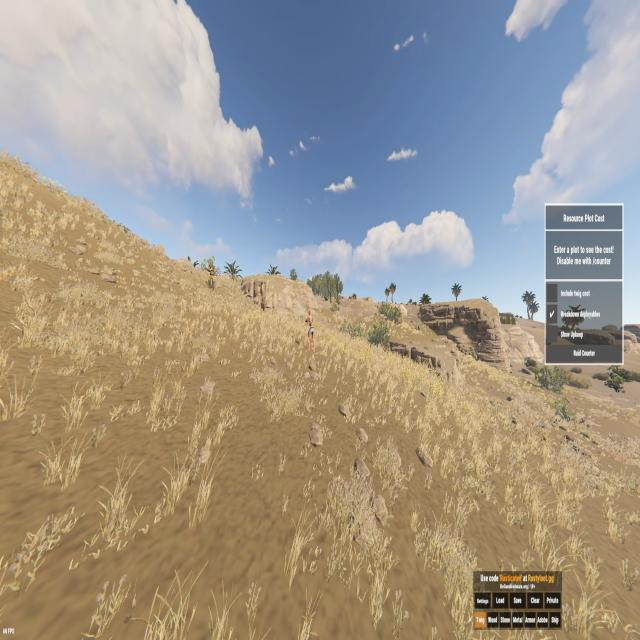Player: (305, 308, 315, 351), (207, 264, 215, 290)
